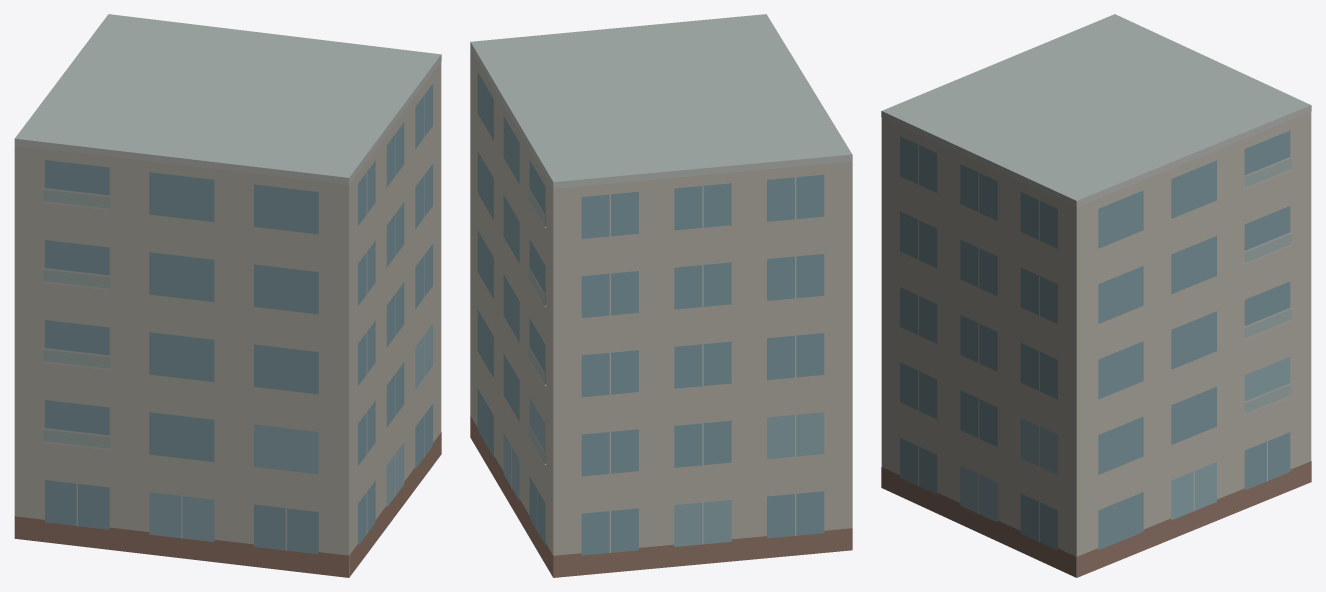
Rendered from survey-upis-32990621.glb.
3 views of the same model, side by side, from view 1: azimuth 30°, elevation 25°; view 2: azimuth 150°, elevation 25°; view 3: azimuth 270°, elevation 25° (orthographic). The views are drawn at different scales.
Parts seen in each view (by area): view 1: survey-upis-32990621.tmp; view 2: survey-upis-32990621.tmp; view 3: survey-upis-32990621.tmp.
Boxes of the visible parts, left/top/right/bottom form: survey-upis-32990621.tmp: left=14, top=14, right=441, bottom=577; survey-upis-32990621.tmp: left=470, top=14, right=852, bottom=577; survey-upis-32990621.tmp: left=881, top=14, right=1311, bottom=577.
Size of the model in its own units: 15.11 by 14.2 by 14.68.
